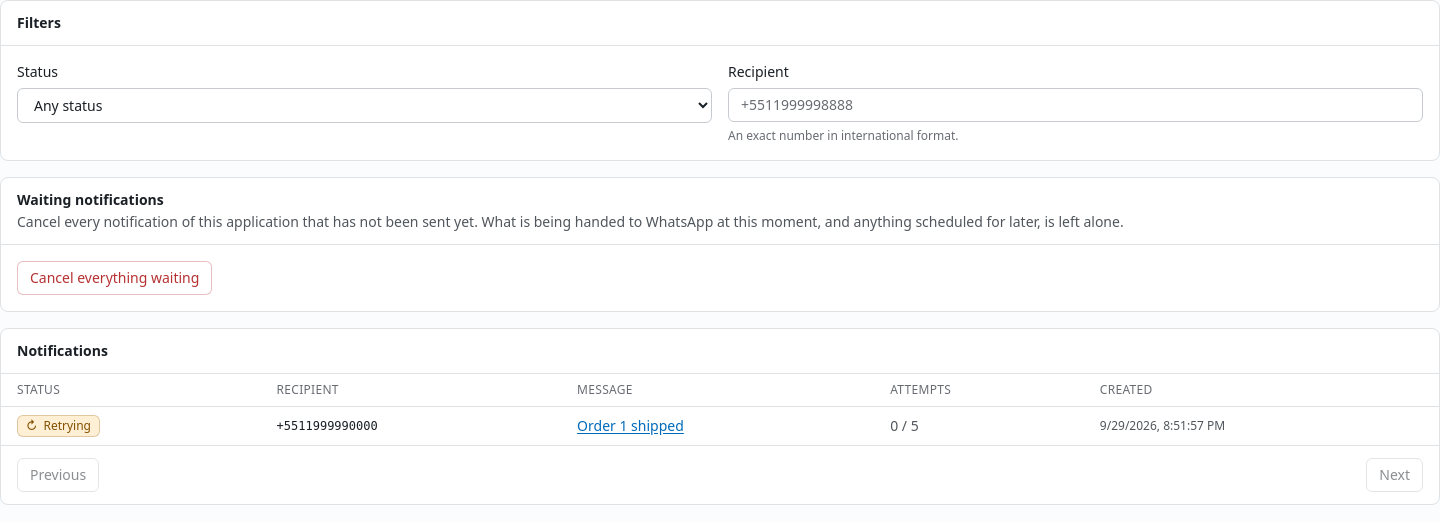
it: notifications waiting behind a connection that cannot send › can be put down without cancelling anything
The width and height of the screenshot is (1440, 522).
Click the button "Cancel everything waiting" at (115, 278), box top-left (17, 261), bottom-right (212, 295)
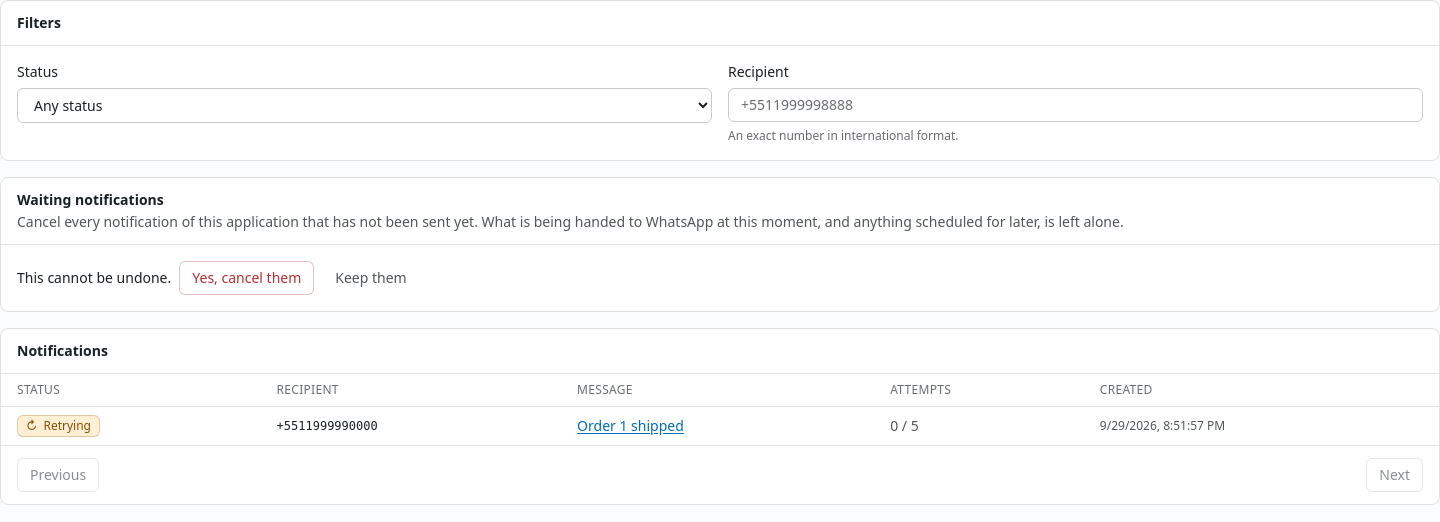
Click the button "Keep them" at (371, 278), box top-left (322, 261), bottom-right (420, 295)
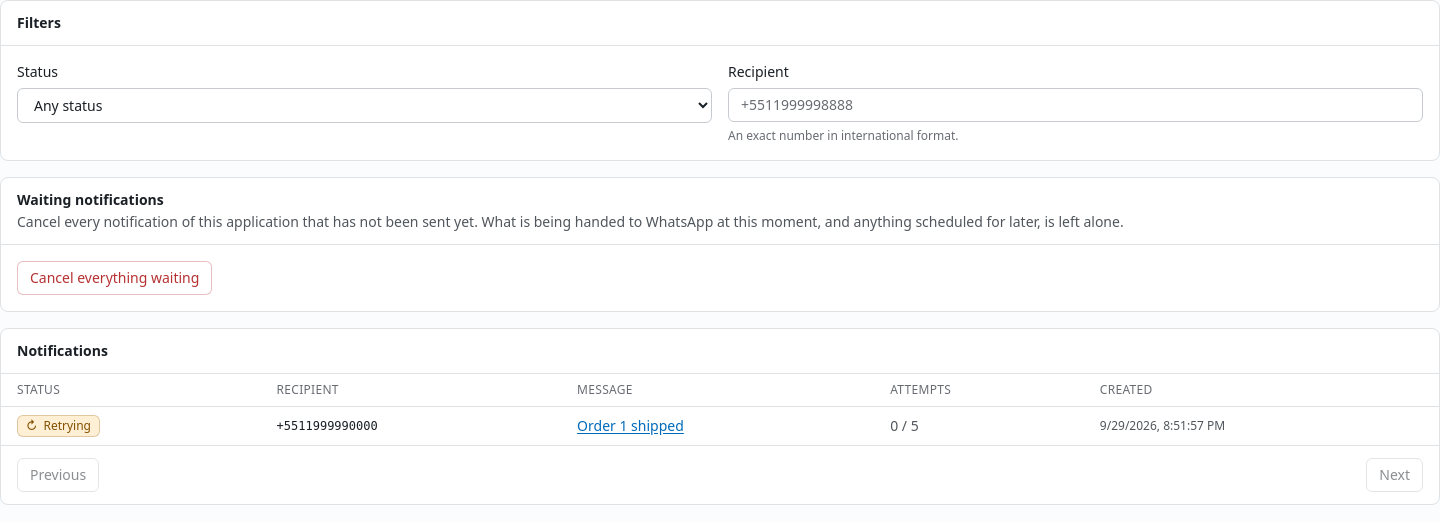
Check: the button "Cancel everything waiting" is shown, box top-left (17, 261), bottom-right (212, 295)
